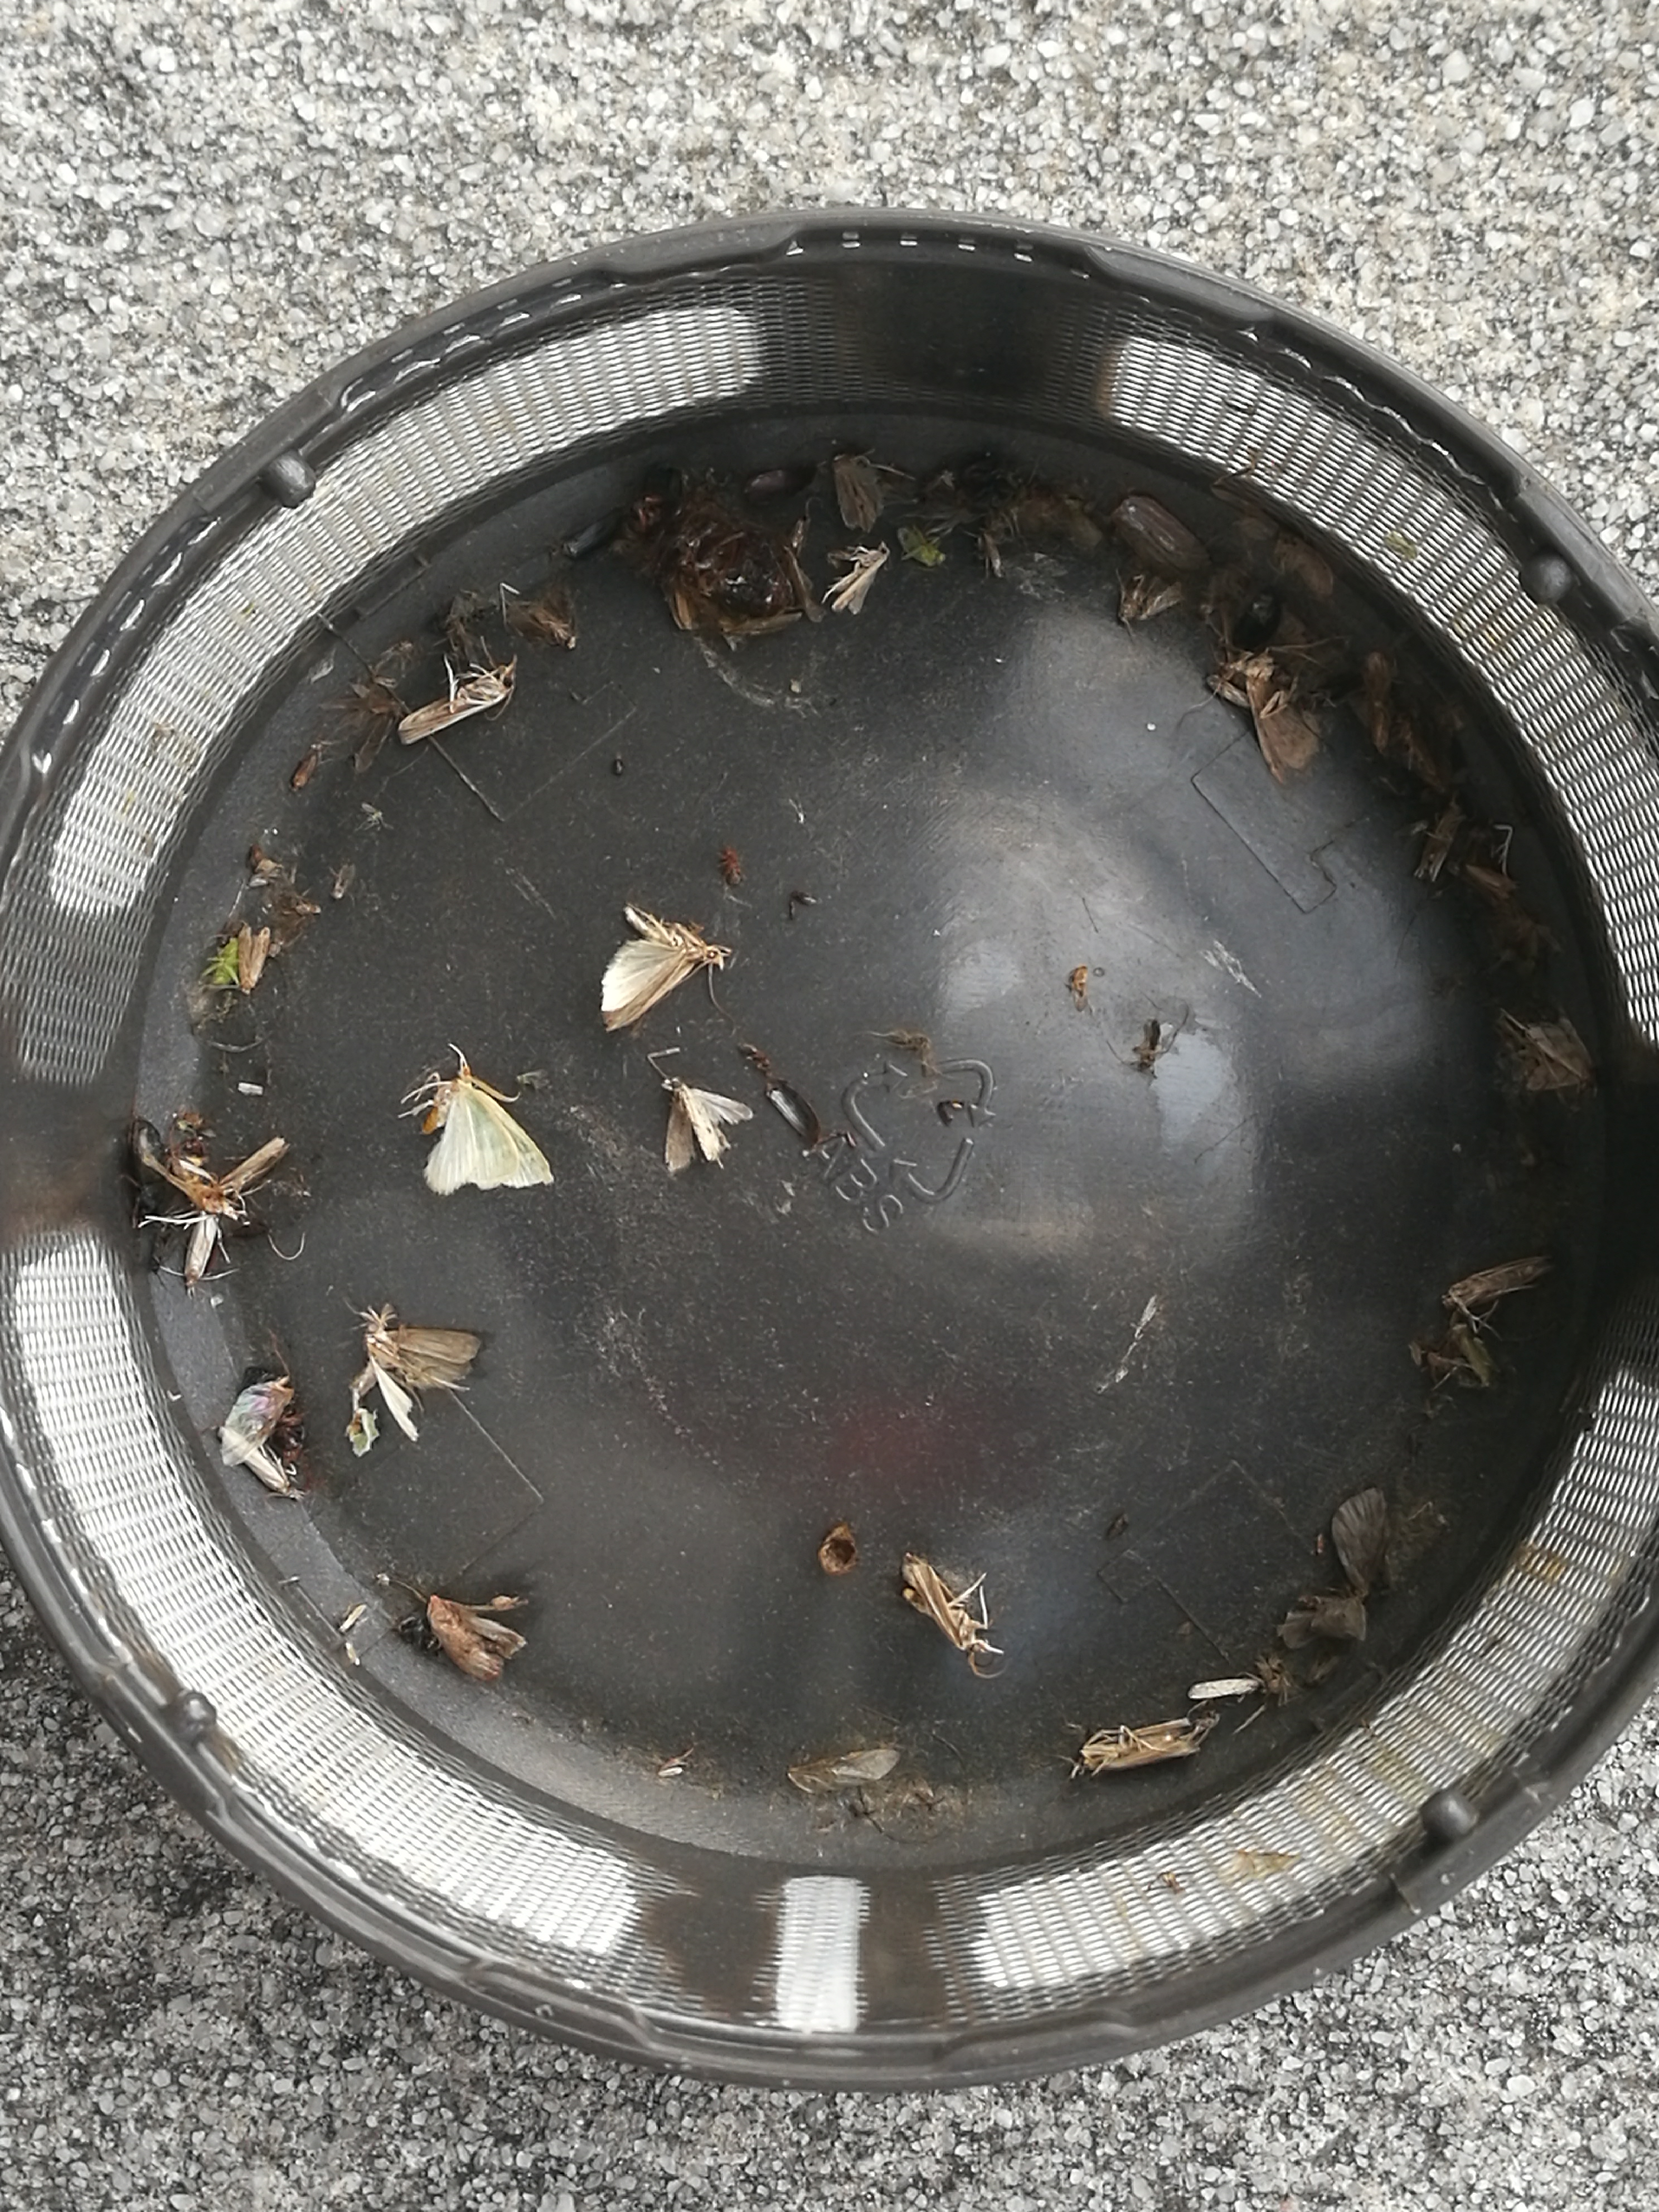beetle: (633, 493, 788, 613), (960, 467, 1072, 535)
mosquito: (396, 662, 516, 744), (897, 1555, 978, 1653), (1075, 1717, 1201, 1771), (1443, 1254, 1553, 1310), (218, 1428, 295, 1496), (1415, 794, 1466, 883), (218, 1136, 289, 1195), (568, 507, 626, 559), (1364, 651, 1394, 749), (185, 1212, 218, 1294), (1206, 671, 1249, 705), (1190, 1677, 1255, 1700), (789, 512, 807, 578), (981, 529, 1002, 575)
moth: (1276, 1489, 1389, 1646), (420, 1064, 552, 1195), (599, 909, 732, 1029), (364, 1318, 481, 1442), (1246, 655, 1319, 780), (427, 1595, 526, 1679), (660, 1078, 751, 1167), (1525, 1012, 1593, 1092), (504, 578, 573, 646), (823, 543, 890, 613), (1115, 566, 1183, 622), (833, 455, 880, 528), (1457, 859, 1520, 907), (237, 925, 268, 993)
